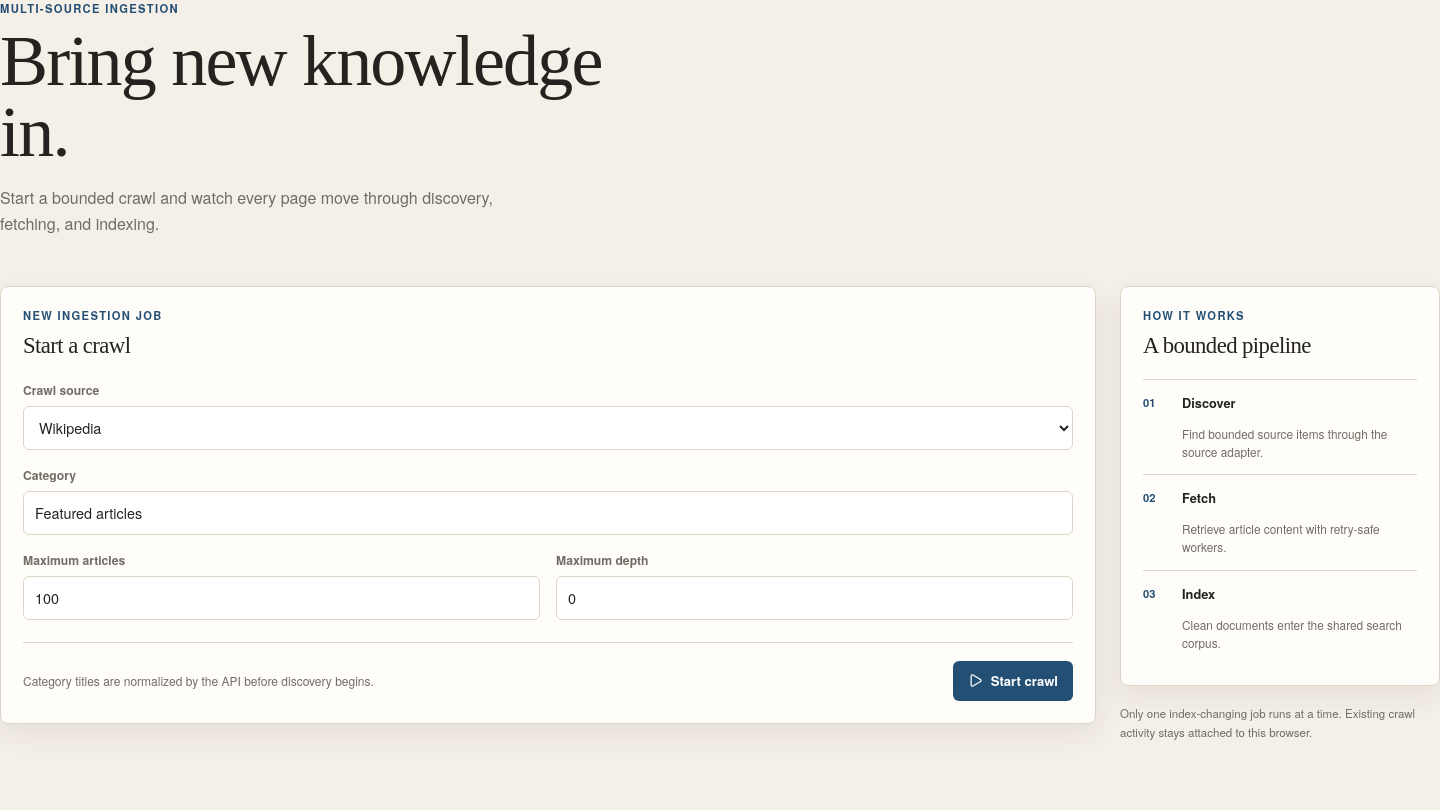
Scenario: CrawlsPage › stops polling after terminal failure and shows the safe error
The width and height of the screenshot is (1440, 810).
What coordinates should you click on to do the following:
click the button "Start crawl"
I would click on:
 (1013, 681)
Its box is [953,661,1073,701].
Wait 3000 ms
(page scrolled)
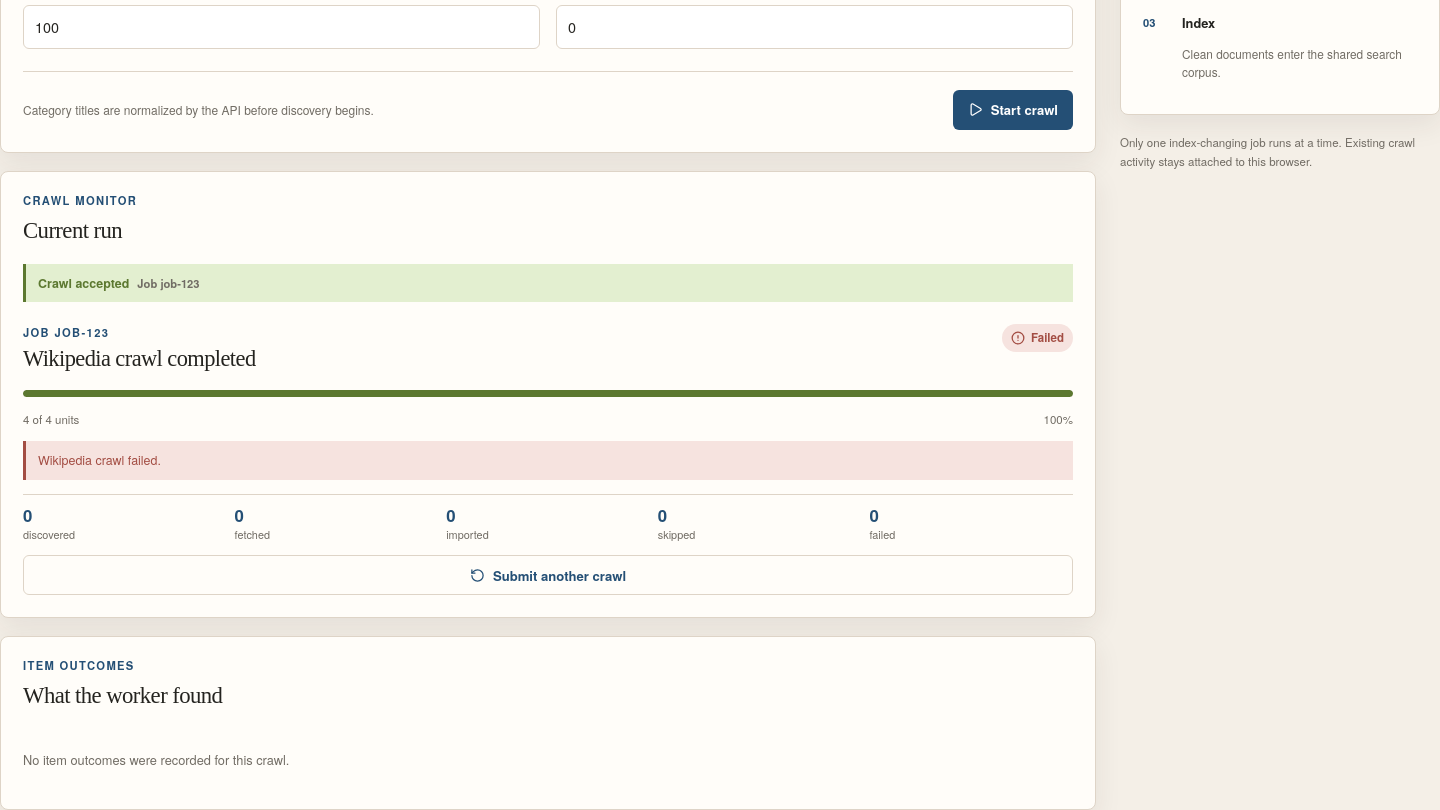
Expected: the text "Wikipedia crawl failed." is shown, [23,441,1073,480]
Expected: the button "Submit another crawl" is shown, [23,555,1073,595]
